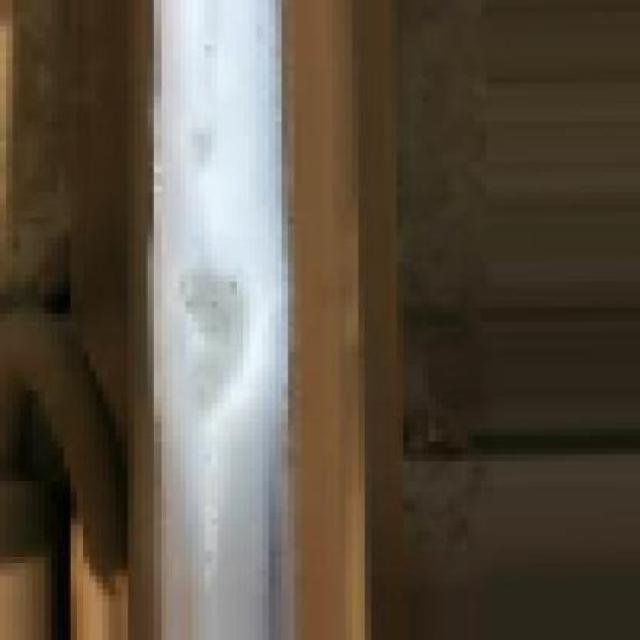defective: (68, 51, 364, 586)
